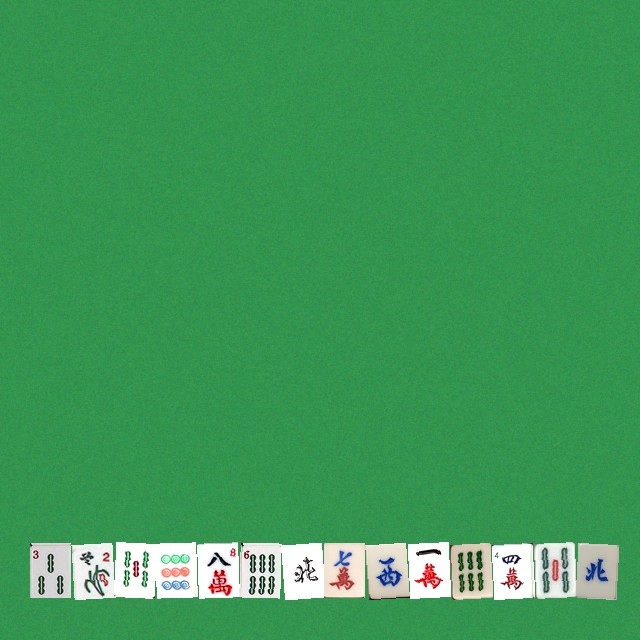tile: (29, 542, 70, 597), (71, 542, 112, 597), (113, 542, 154, 597), (155, 542, 196, 597), (197, 542, 238, 597), (239, 542, 280, 597), (281, 542, 322, 597), (323, 542, 364, 597), (365, 542, 406, 597), (407, 542, 448, 597), (449, 542, 490, 597), (491, 542, 532, 597), (533, 542, 574, 597), (575, 542, 616, 597)
